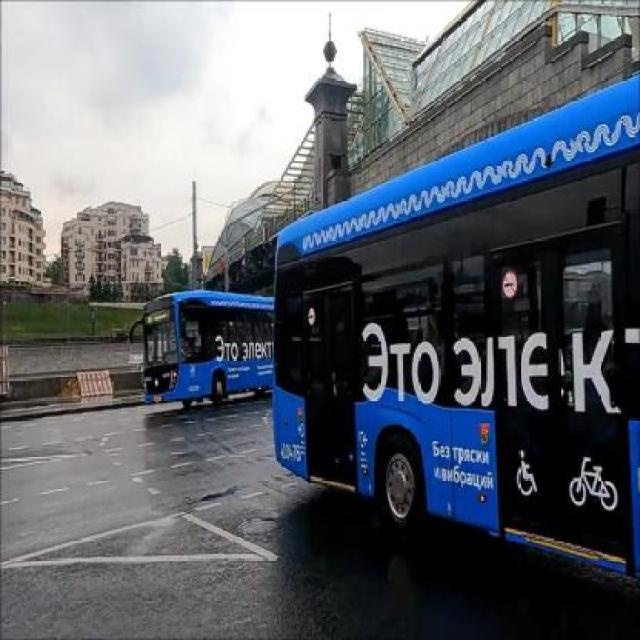Bus: (270, 51, 633, 606), (139, 288, 273, 408)
